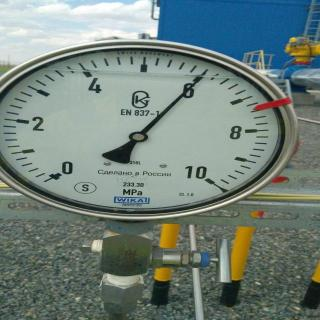gauge: (0, 39, 306, 221), (44, 166, 75, 192), (206, 170, 233, 196), (129, 130, 146, 144), (201, 68, 211, 78)
